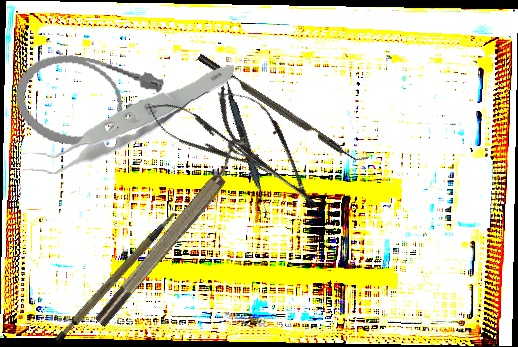Cannula: (8, 46, 192, 164)
Chopper: (197, 45, 370, 170)
Fixation Ring: (84, 135, 259, 330)
Micro Scissor: (202, 73, 334, 222)
Needle Holder: (139, 92, 277, 186)
Scalpel Handle: (39, 210, 196, 345)
Spatula Surgical: (217, 70, 274, 219)
Tissue Forceps: (21, 50, 234, 187)
